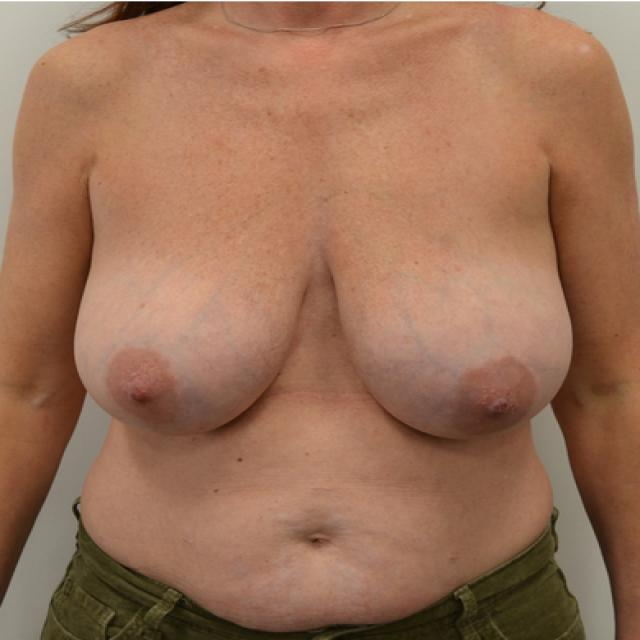Seno ileso: (321, 194, 579, 457), (69, 194, 318, 451)
